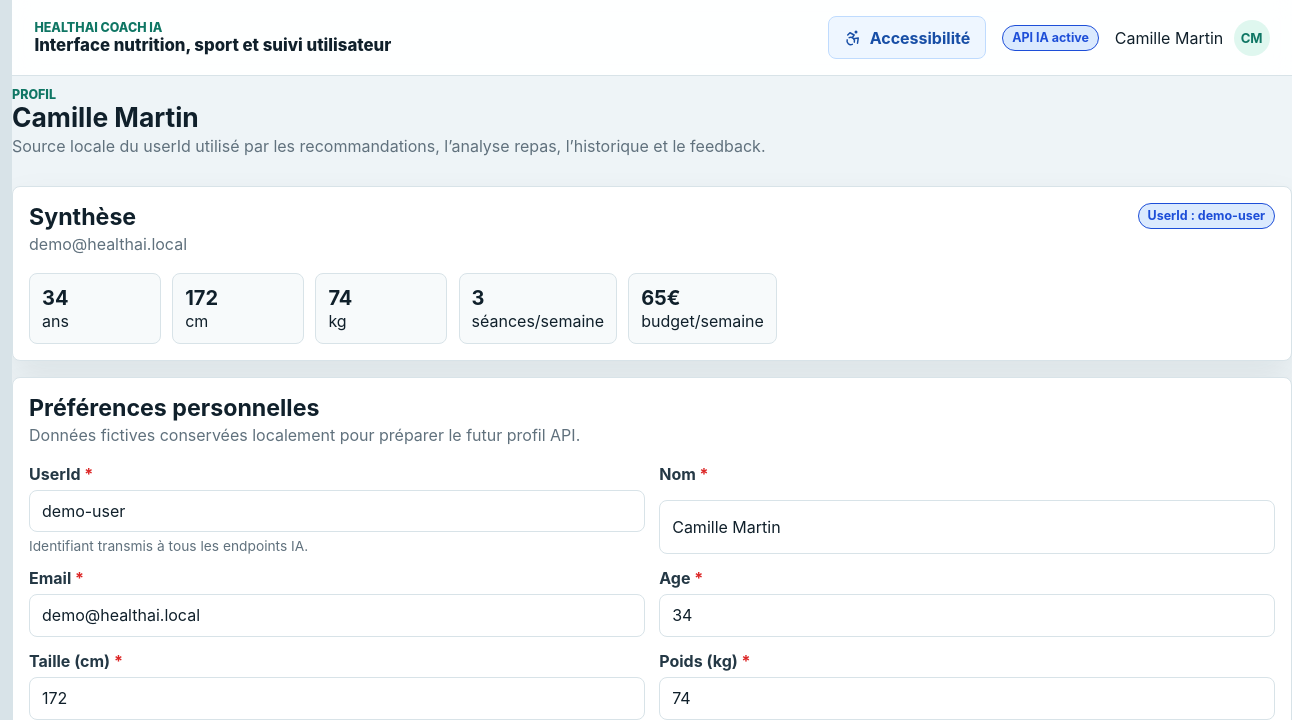
ProfilePage › modifie le profil local et met a jour la topbar
The image size is (1292, 720).
Expected: the text "Camille Martin" is shown, [1115,28,1223,48]
Replace the text in the field labelled "Nom *" with "Alex Martin" at (967, 527), box [659,500,1275,554]
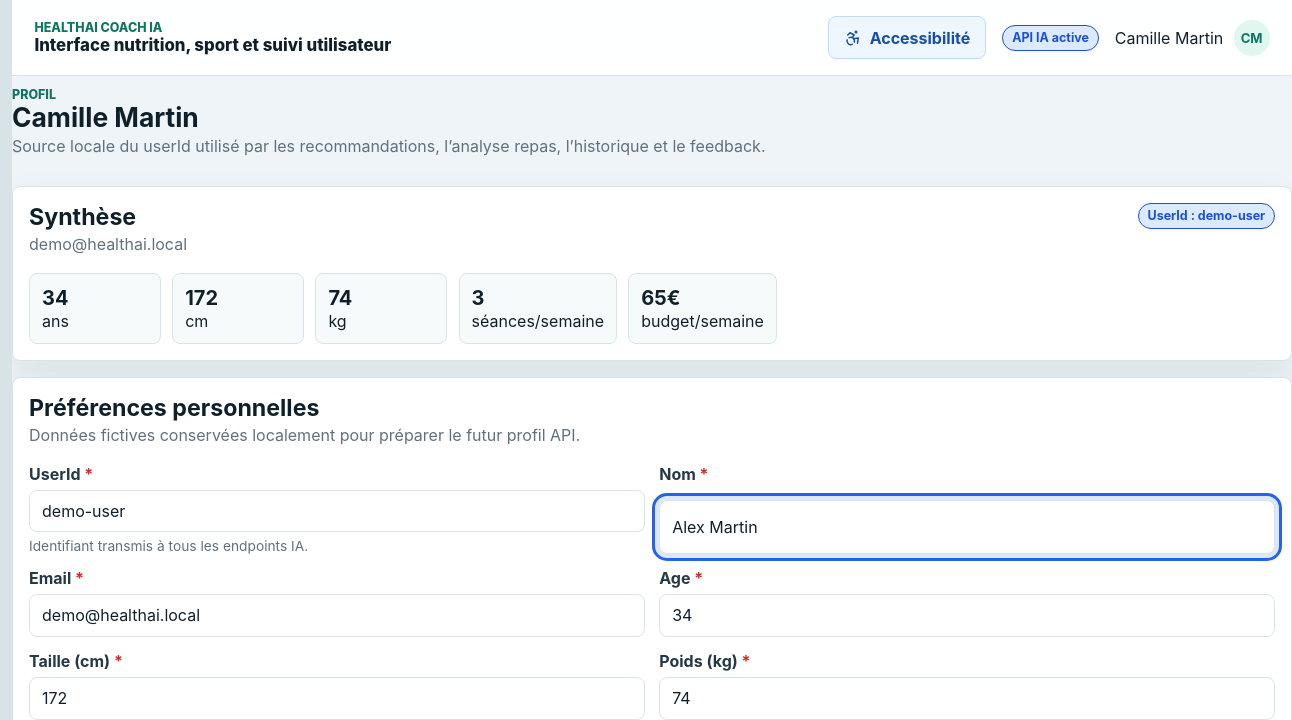
Replace the text in the field labelled "Email *" with "alex@healthai.local" at (337, 615), box [29,594,645,637]
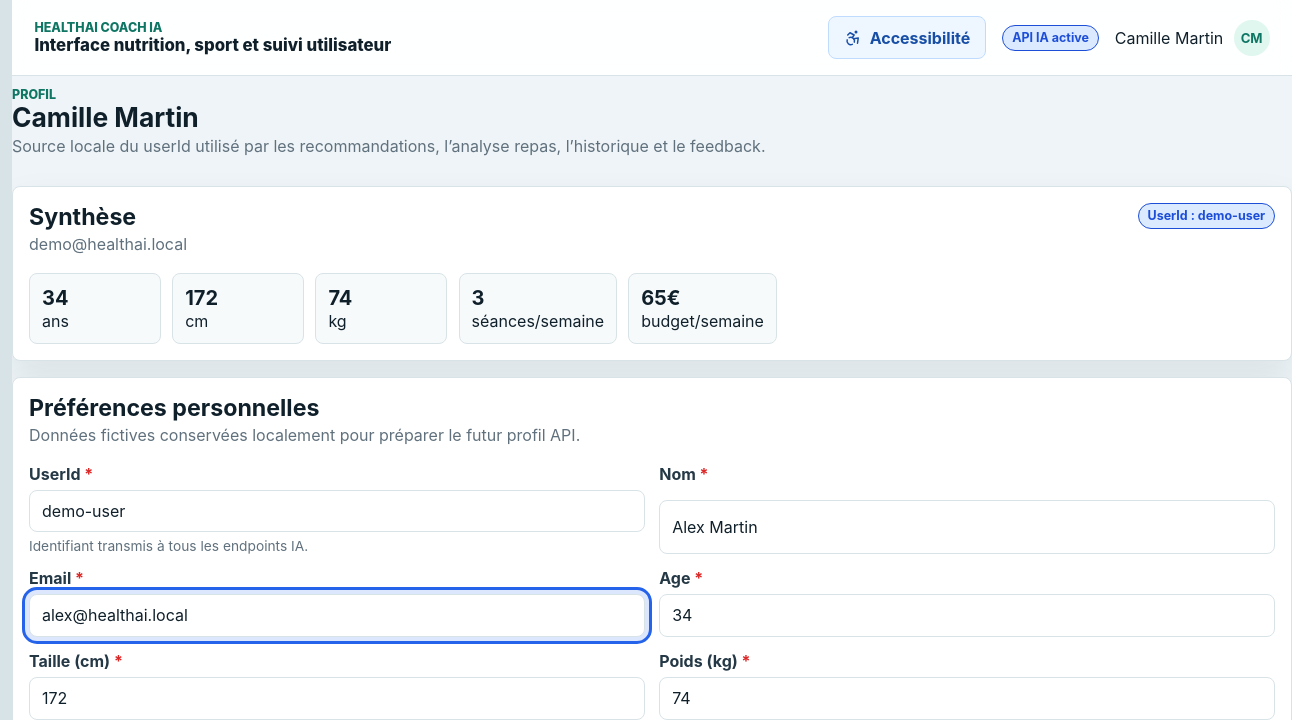
Replace the text in the field labelled "UserId * Identifiant transmis à tous les endpoints IA." with "user-alex" at (337, 511), box [29,490,645,532]
(page scrolled)
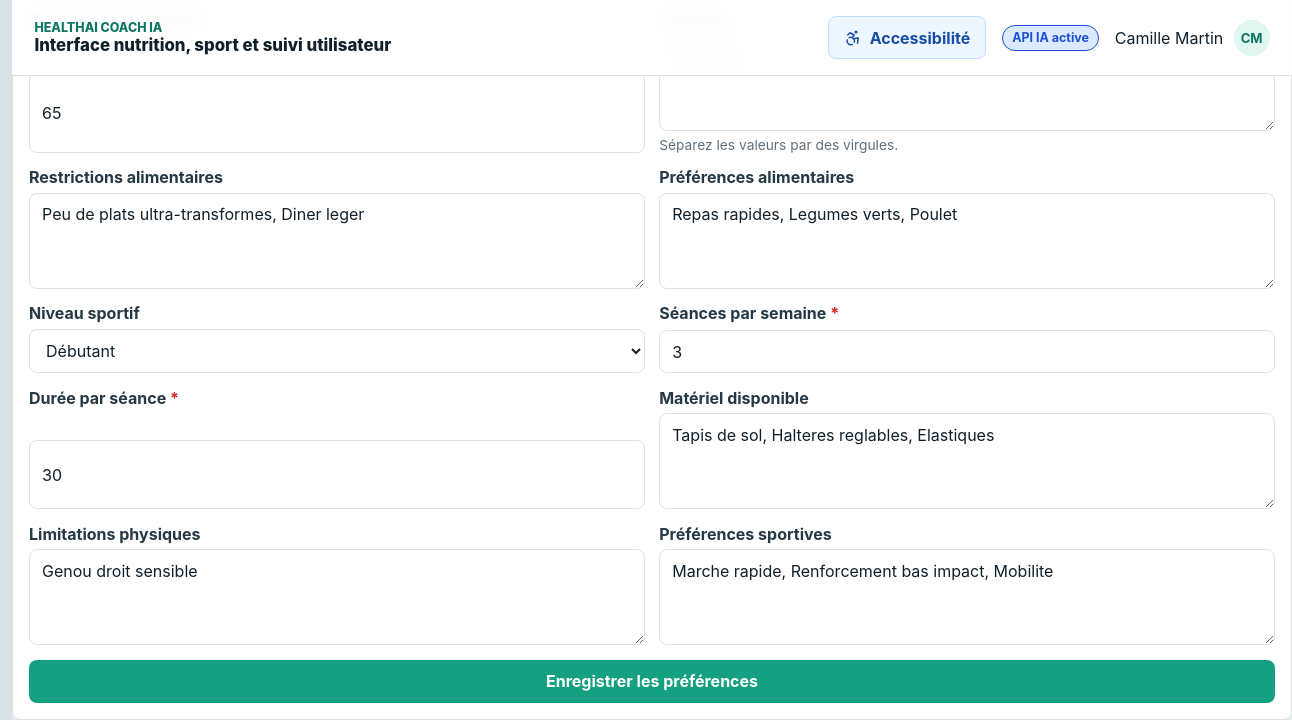
Click the button "Enregistrer les préférences".
click(652, 681)  # box [29,660,1275,703]
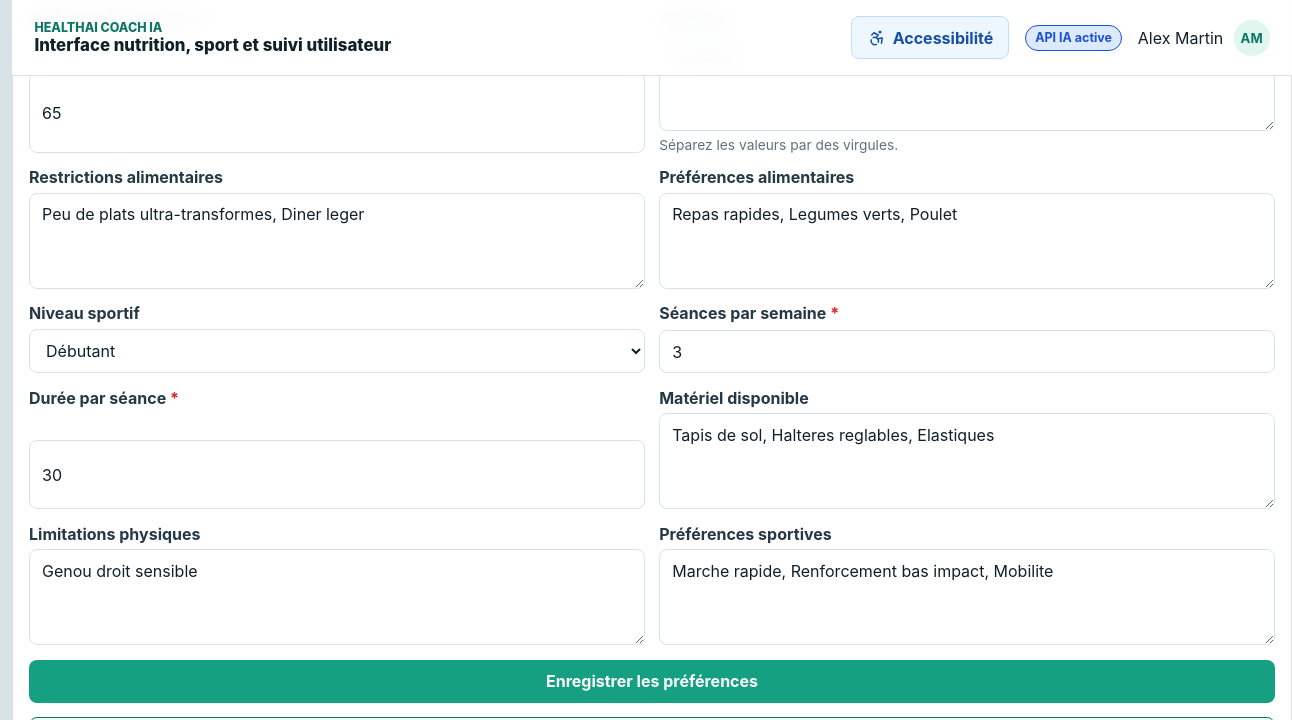
Expected: the text "Alex Martin" is shown, [1138,28,1223,48]
